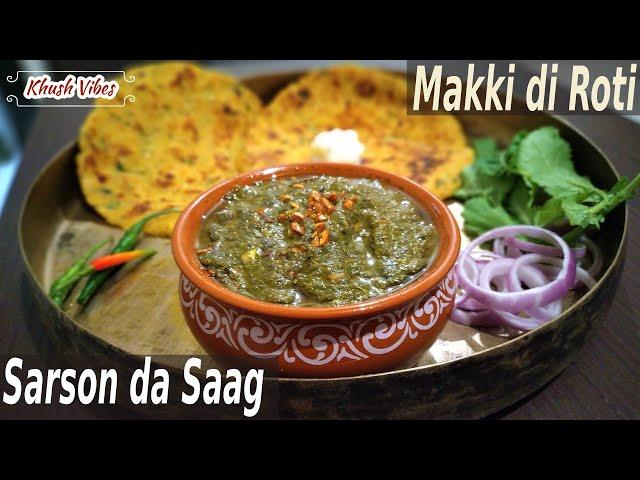saag: (197, 178, 433, 309)
